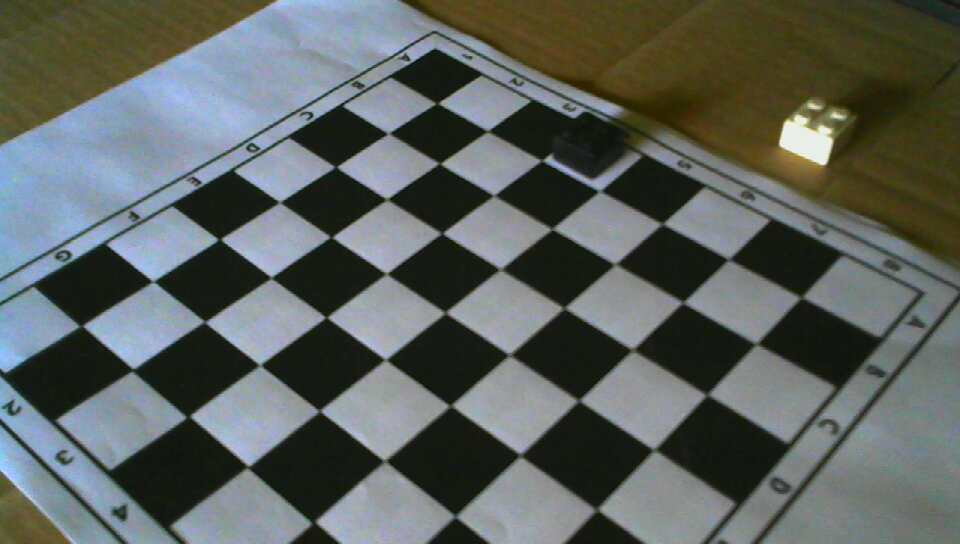bp: (551, 112, 626, 176)
wp: (778, 94, 857, 167)
